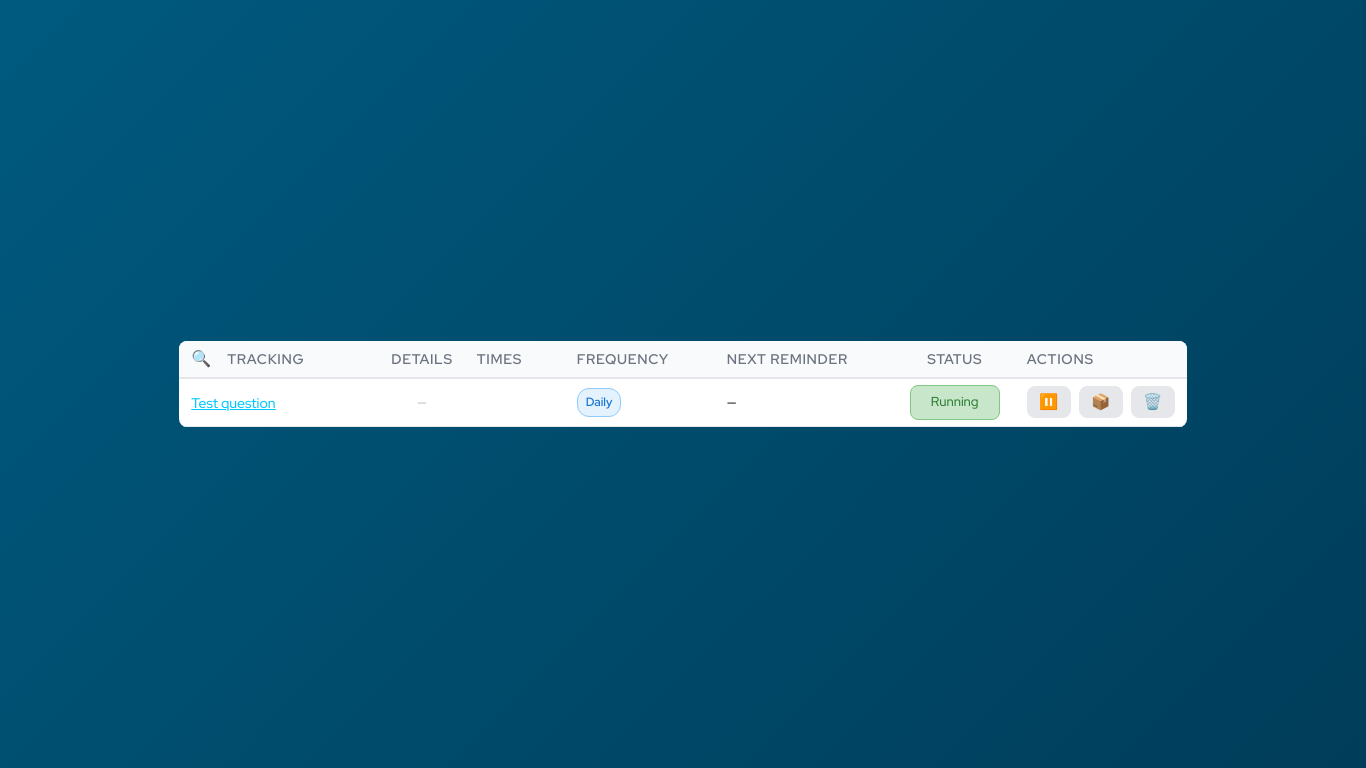
TrackingsList › Filtering › should hide filter panel when toggle button is clicked again
Click the button named "show filters" at (201, 359), box left=191, top=347, right=211, bottom=371
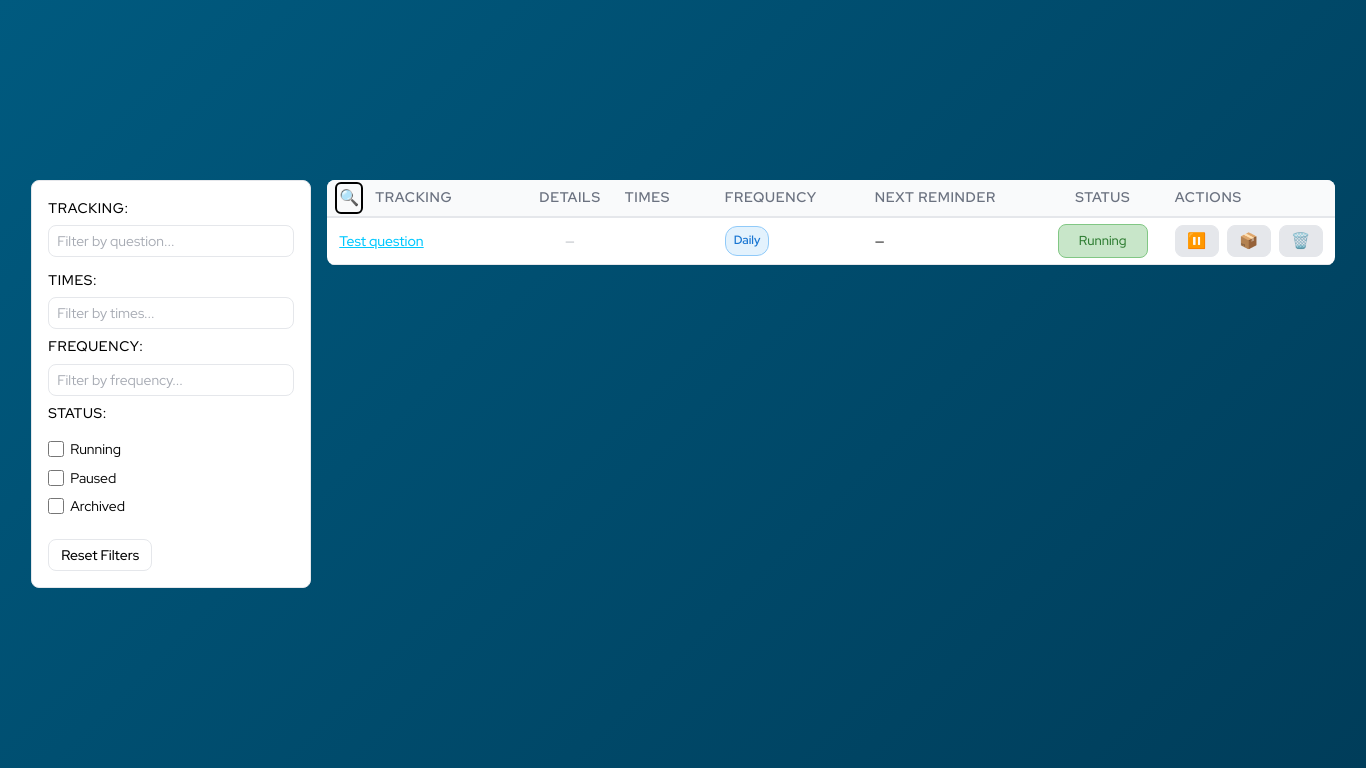
Expected: the field named "Filter by tracking" is shown, left=48, top=225, right=294, bottom=257
Click the button named "show filters" at (349, 198), box left=339, top=186, right=359, bottom=210
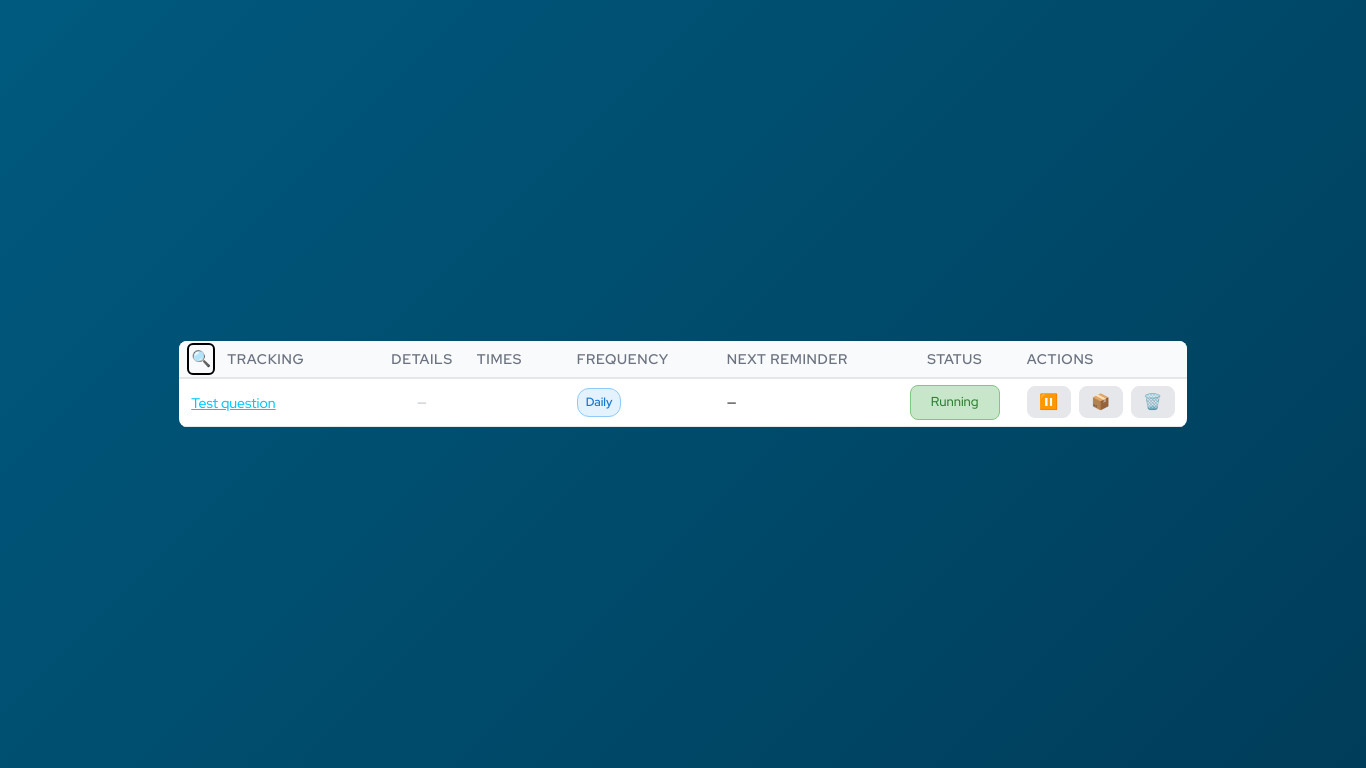
Expected: the button named "show filters" is shown, left=191, top=347, right=211, bottom=371
